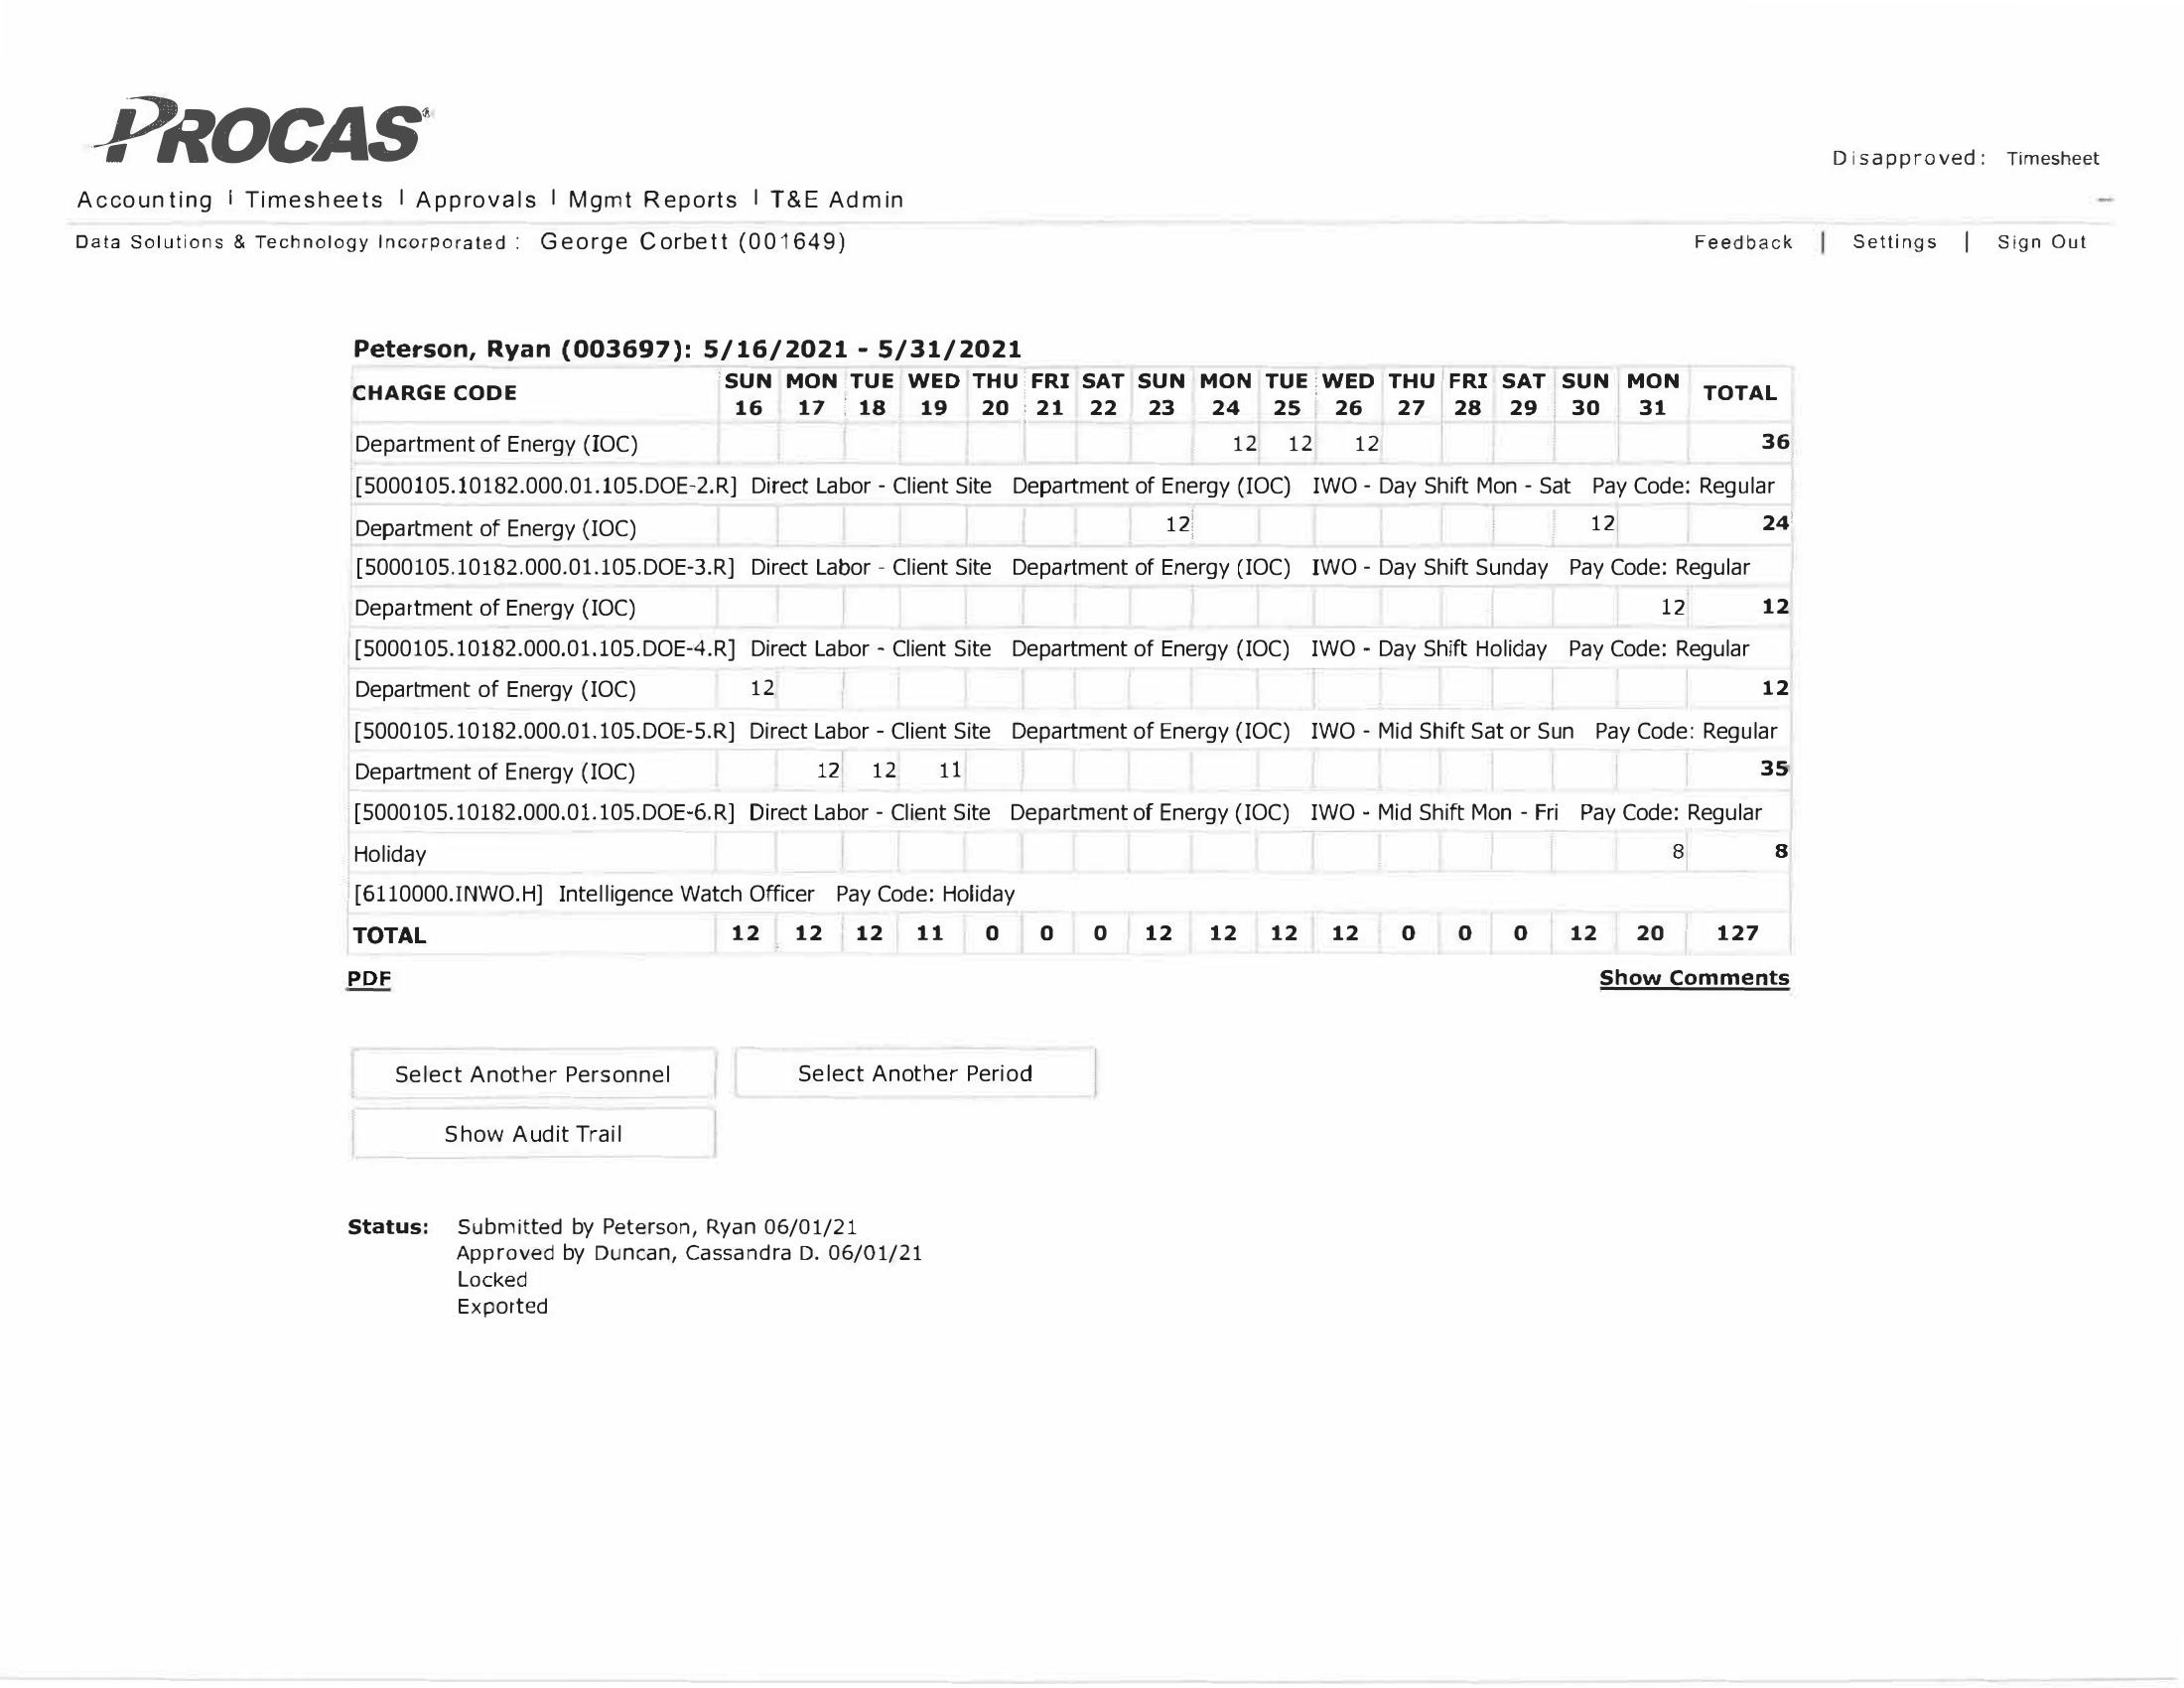table: (326, 358, 1808, 961)
